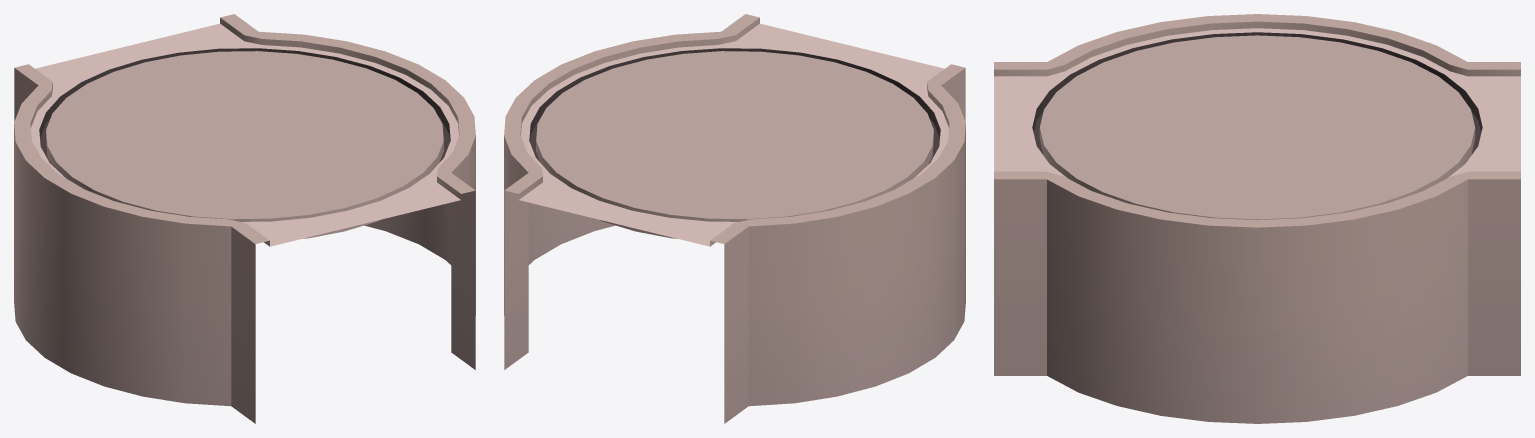
File: Road_Carouselle.fbx
The picture shows the model from 3 angles, left to right: view 1: azimuth 30°, elevation 25°; view 2: azimuth 150°, elevation 25°; view 3: azimuth 270°, elevation 25°; orthographic projection. The views are drawn at different scales.
Visible parts, largest first — view 1: Road_Carouselle, Road_Carouselle_Disk; view 2: Road_Carouselle, Road_Carouselle_Disk; view 3: Road_Carouselle, Road_Carouselle_Disk.
Boxes of the visible parts, x1,y1,x2,y2 form: Road_Carouselle: (14,14,475,423); Road_Carouselle_Disk: (46,51,443,238); Road_Carouselle: (504,14,965,423); Road_Carouselle_Disk: (536,51,933,238); Road_Carouselle: (994,14,1520,423); Road_Carouselle_Disk: (1039,35,1475,219).
Size of the model in its own units: 701 by 301 by 731.
